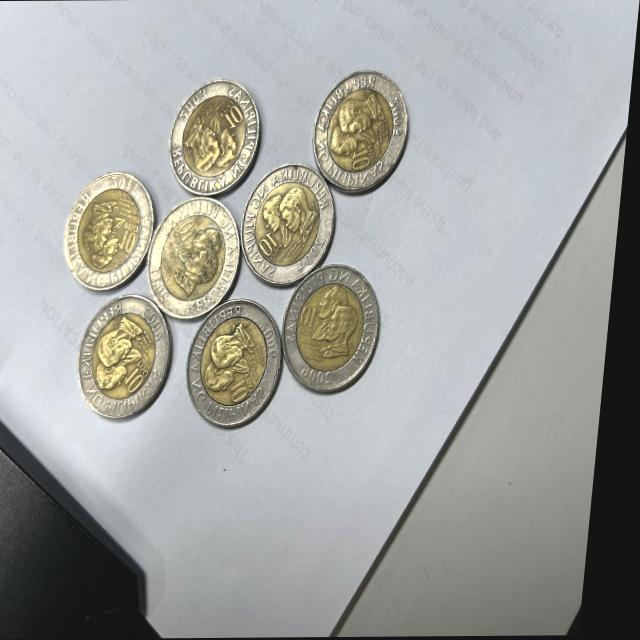10_Old_Front: (131, 361, 154, 395), (225, 101, 248, 129), (237, 375, 257, 405), (264, 232, 284, 260), (122, 227, 143, 253), (183, 214, 203, 240), (354, 146, 375, 170), (304, 303, 324, 326)
